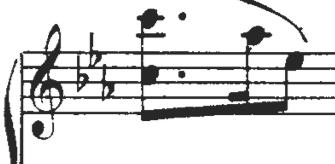flat: (68, 48, 90, 98), (98, 60, 120, 105), (84, 29, 105, 75)
treble_clef: (27, 19, 70, 150)
